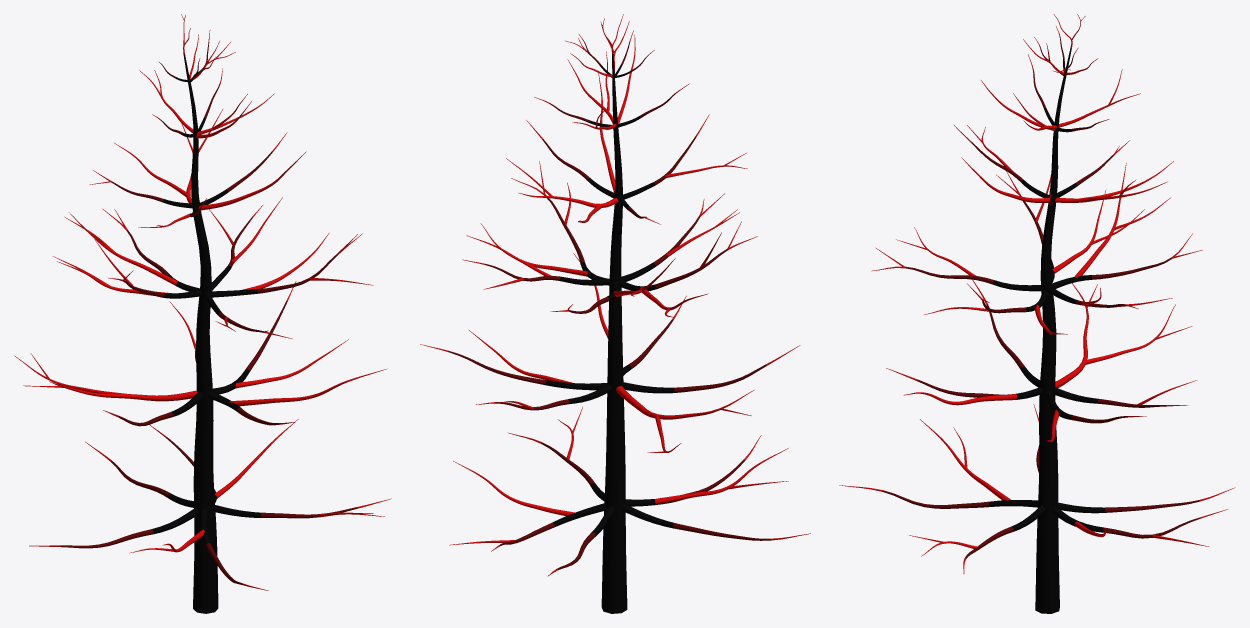
File: deadTree.fbx
The picture shows the model from 3 angles, left to right: view 1: azimuth 30°, elevation 25°; view 2: azimuth 150°, elevation 25°; view 3: azimuth 270°, elevation 25°; orthographic projection. The views are drawn at different scales.
Visible parts, largest first — view 1: tree; view 2: tree; view 3: tree.
Part boxes in pixels (x1,y1,x2,y2): tree: [14, 14, 391, 613]; tree: [420, 14, 810, 613]; tree: [839, 14, 1235, 613].
Bounding box in the file's own units: 292 × 497 × 302.
